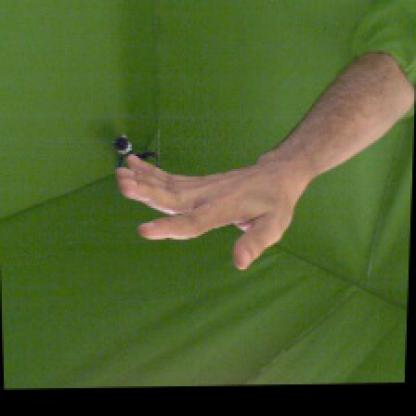Hand: (115, 154, 303, 270)
